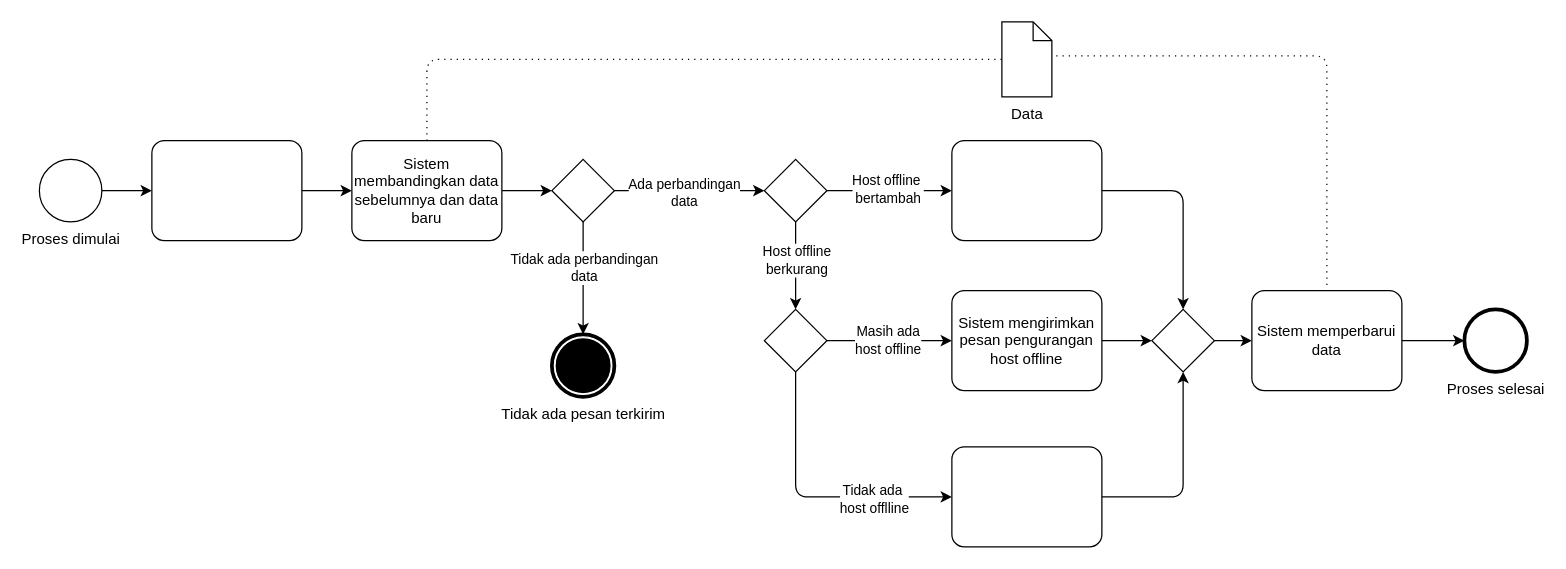
Image size: 1566x569. Some labels were removed from this diagram. The shapes that lost their labels are listed below. From the top down, each one's box as (x1, y1, x2, y2) in pixels, then its label:
(151, 139, 302, 241): Sistem mengambil data dari API Zabbix
(951, 139, 1102, 241): Sistem mengirimkan pesan tambahan host offline
(951, 446, 1102, 547): Sistem mengirimkan pesan semua host online
